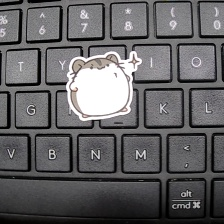mouse: (65, 51, 144, 122)
